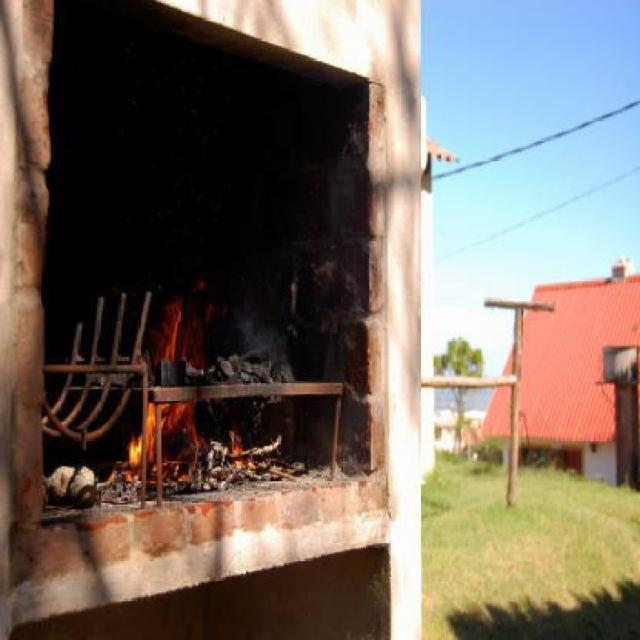Fire: (123, 302, 200, 489)
